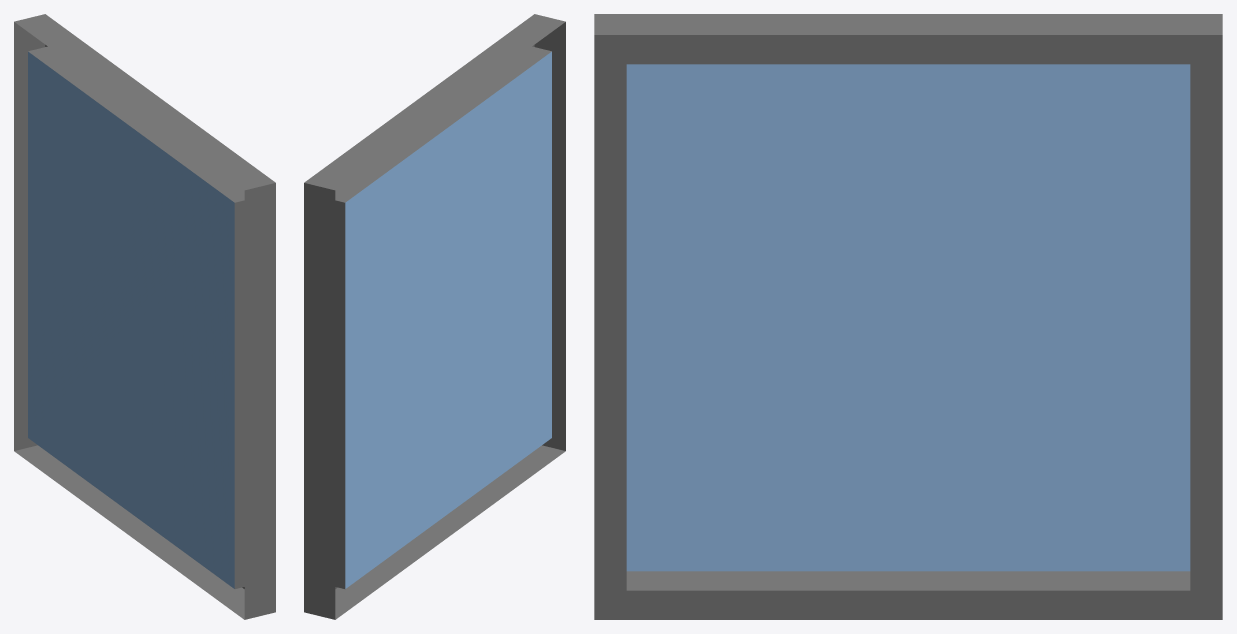
The model's file is P_Window_02.dae.
The picture shows the model from 3 angles, left to right: view 1: azimuth 30°, elevation 25°; view 2: azimuth 150°, elevation 25°; view 3: azimuth 270°, elevation 25°; orthographic projection. The views are drawn at different scales.
Visible parts, largest first — view 1: Window_02; view 2: Window_02; view 3: Window_02.
Part boxes in pixels (<box>): Window_02: <box>14,14,275,619</box>; Window_02: <box>304,14,565,619</box>; Window_02: <box>594,14,1222,619</box>.
Bounding box in the file's own units: 0.0994 × 1.27 × 1.3.
